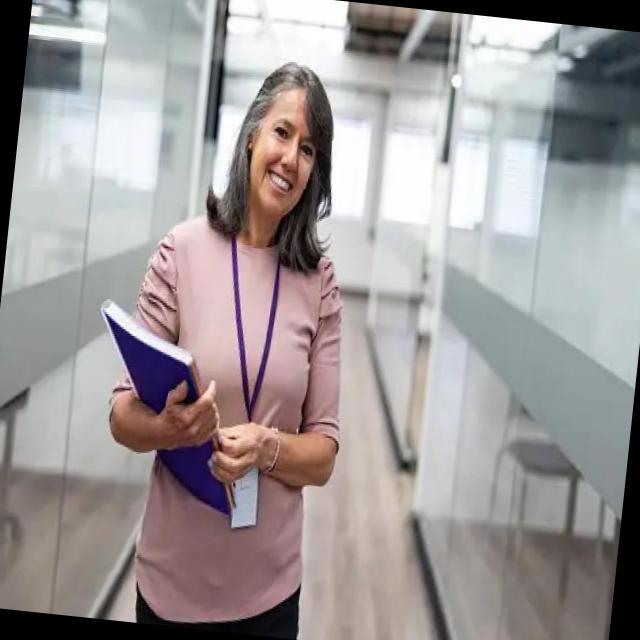id_card: (197, 233, 297, 532)
